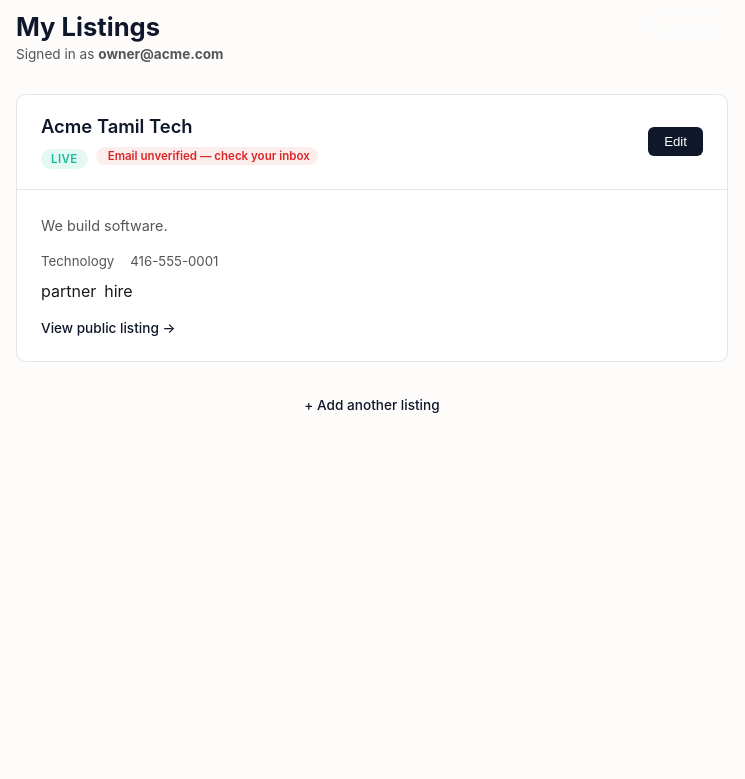
DashboardClient — edit flow › Cancel exits edit mode and restores Edit Listing button
The image size is (745, 779).
Click the button "Edit" at (676, 142), box [648,128,703,156]
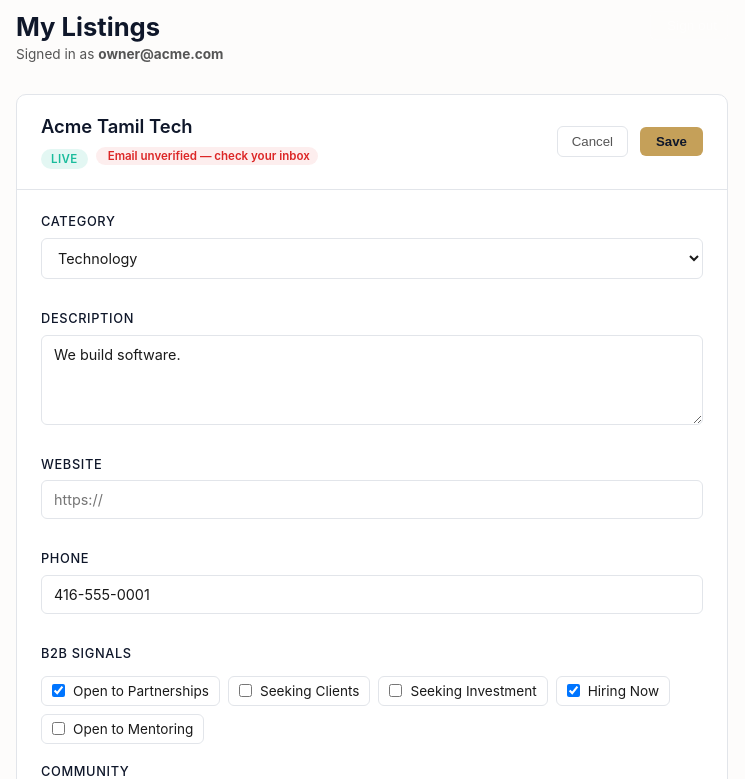
Click the button "Cancel" at (592, 142), box [557,126,628,158]
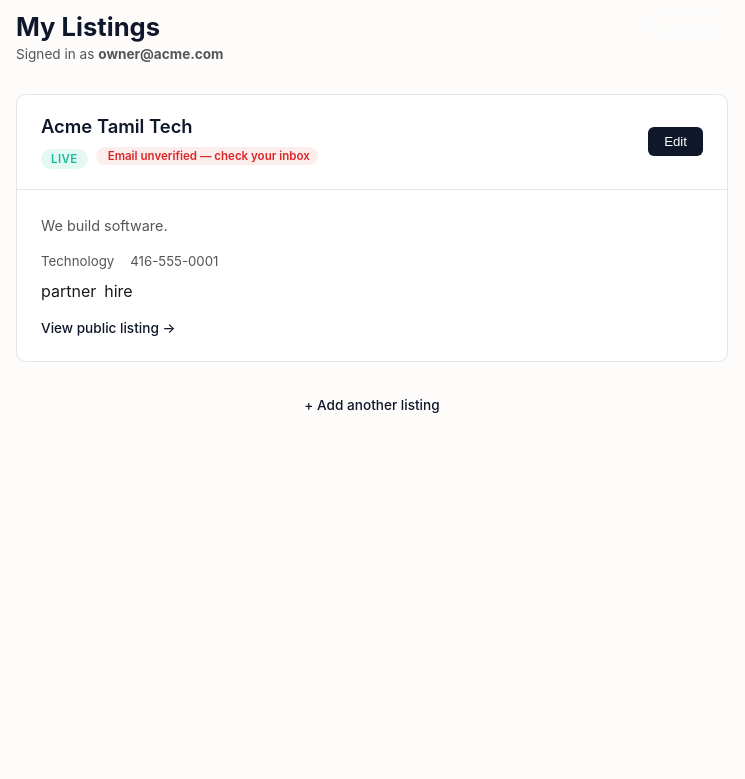
Check: the button "Edit" is shown, box [648,128,703,156]
